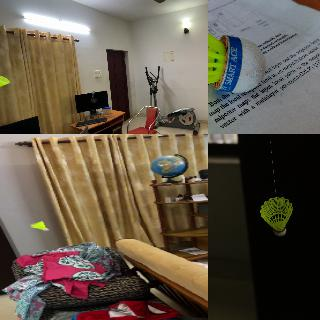shuttlecock: (208, 0, 266, 107), (260, 197, 292, 236), (30, 221, 49, 231), (0, 75, 11, 90)
